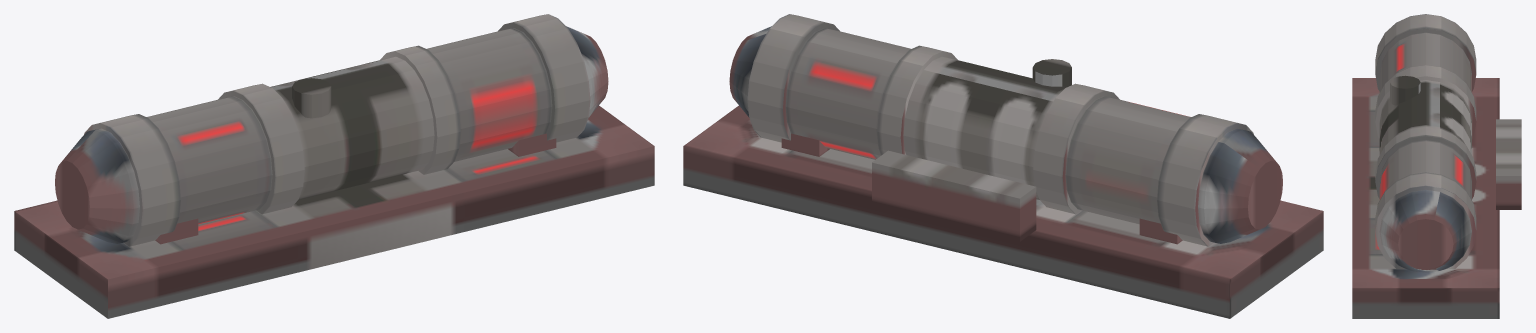
Rendered from Building_BasicRecharger.glb.
3 renders of one model, left to right at view 1: azimuth 30°, elevation 25°; view 2: azimuth 150°, elevation 25°; view 3: azimuth 270°, elevation 25°, orthographic. The views are drawn at different scales.
Parts seen in each view (by area): view 1: BasicRecharger; view 2: BasicRecharger; view 3: BasicRecharger.
Part boxes in pixels (box(x1,y1,x2,y2)): BasicRecharger: box(14, 14, 654, 318); BasicRecharger: box(683, 14, 1323, 318); BasicRecharger: box(1352, 14, 1521, 318).
Bounding box in the file's own units: 2.9 × 0.76 × 0.99.
Materials: 1 (1 with a texture image).
